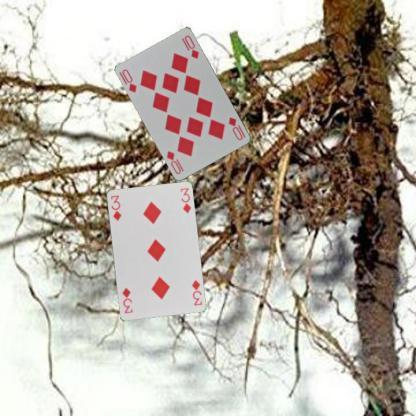10d: (226, 115, 247, 142), (120, 66, 138, 94)
3d: (108, 192, 123, 222), (189, 277, 203, 306)
